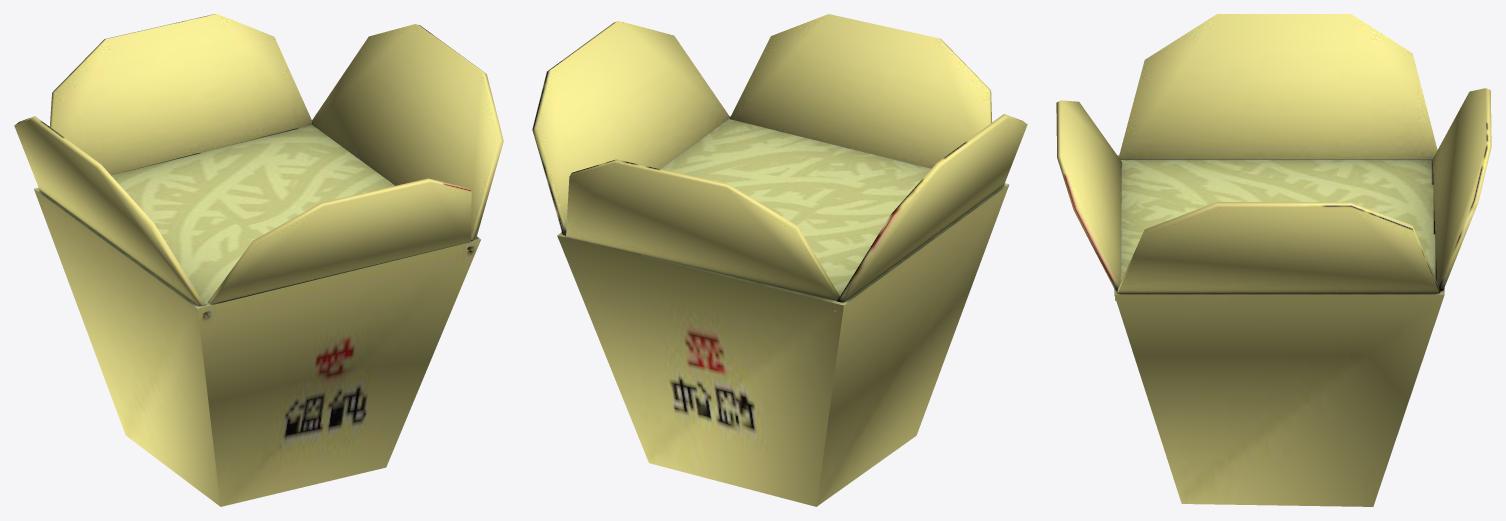
The model's file is noodle.dae.
3 views of the same model, side by side, from view 1: azimuth 30°, elevation 25°; view 2: azimuth 150°, elevation 25°; view 3: azimuth 270°, elevation 25° (orthographic).
Parts seen in each view (by area): view 1: Polygon; view 2: Polygon; view 3: Polygon.
Part boxes in pixels (box(x1,y1,x2,y2)): Polygon: box(14, 14, 503, 506); Polygon: box(532, 14, 1027, 506); Polygon: box(1056, 14, 1491, 506).
Size of the model in its own units: 68.81 by 59.84 by 65.87.
Materials: 1 (1 with a texture image).
